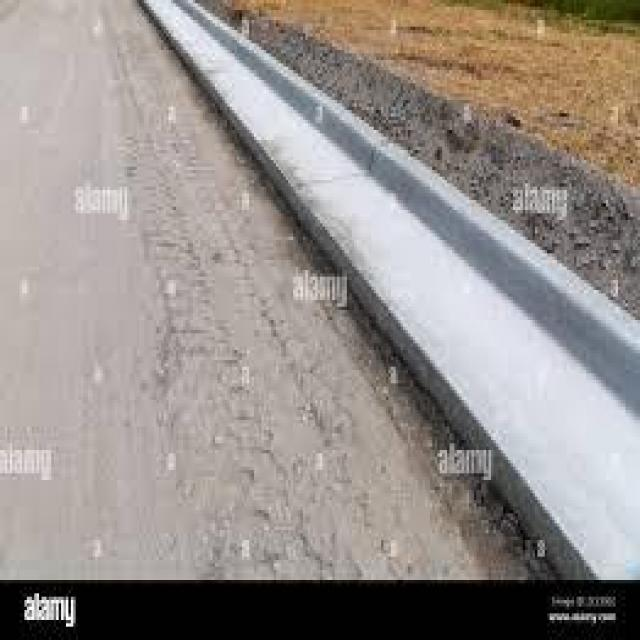curb: (517, 220, 640, 575), (381, 194, 518, 497), (215, 138, 450, 239), (150, 2, 278, 110), (290, 72, 394, 170)
